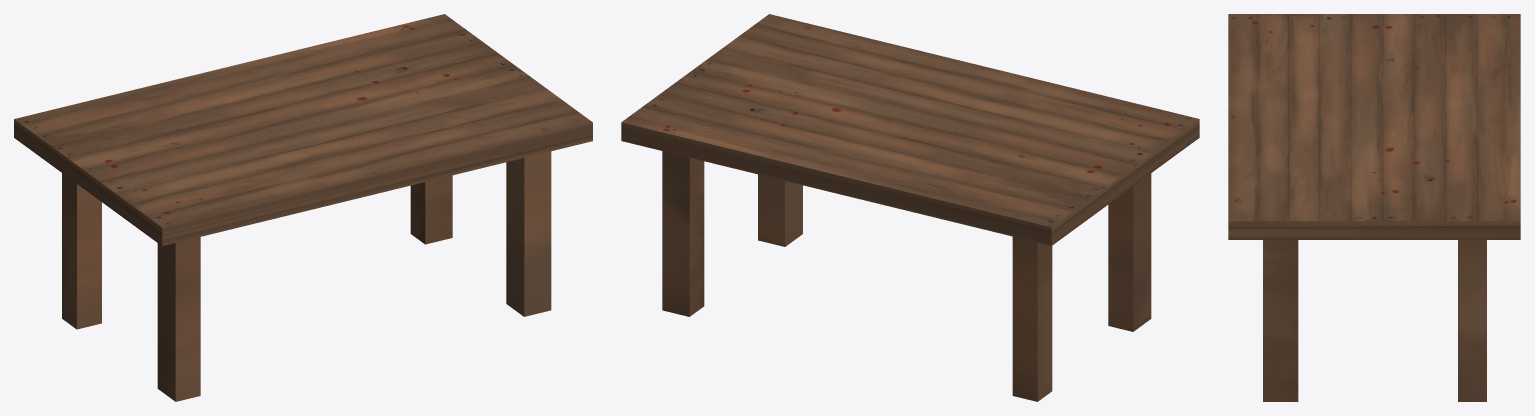
The model's file is M_Table.fbx.
3 views of the same model, side by side, from view 1: azimuth 30°, elevation 25°; view 2: azimuth 150°, elevation 25°; view 3: azimuth 270°, elevation 25° (orthographic).
Visible parts, largest first — view 1: pCube1; view 2: pCube1; view 3: pCube1.
Boxes of the visible parts, x1=… form: pCube1: x1=14, y1=14, x2=592, y2=401; pCube1: x1=621, y1=14, x2=1199, y2=401; pCube1: x1=1228, y1=14, x2=1520, y2=401.
Bounding box in the file's own units: 22.47 × 9.71 × 13.38.
1 material, 1 textured.
